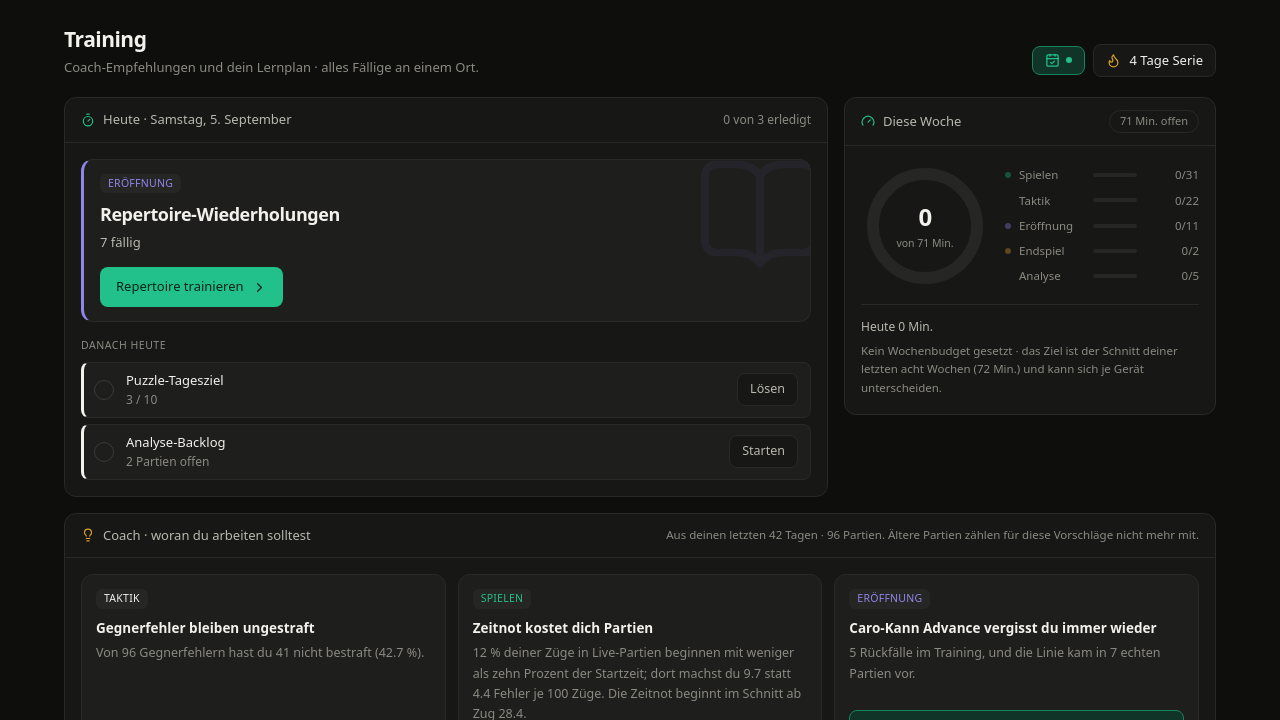
Test: Study page › weekly report › stays out of the page until the symbol in the header is used
expect the text "Besser geworden" is not shown: met
Click the button named "Neuer Wochenbericht" at (1059, 60), box left=1032, top=46, right=1086, bottom=75
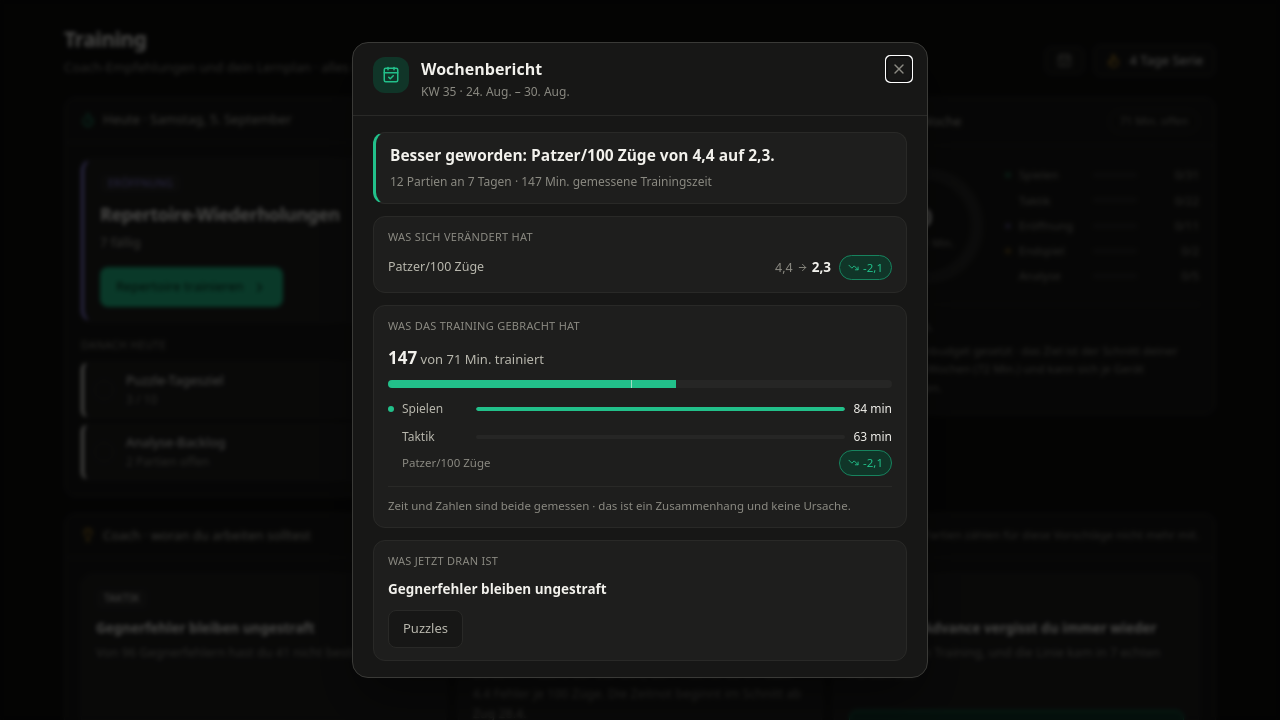
expect the text "Besser geworden: Patzer/100 Züge von 4,4 auf 2,3." is shown: met, box left=390, top=144, right=775, bottom=166
expect the element showing "Was sich verändert hat Patzer/100 Züge 4,42,3 -2,1" is shown: met, box left=373, top=216, right=907, bottom=293
expect the element that starts with "Was das Training gebracht hat" is shown: met, box left=373, top=305, right=907, bottom=528
